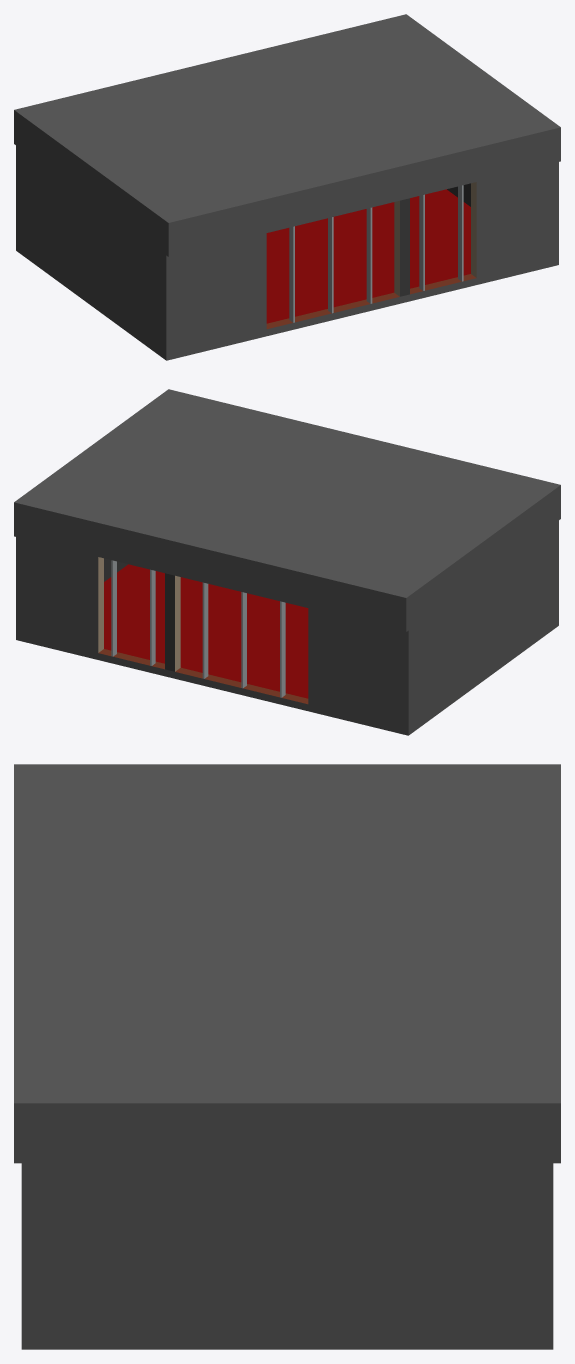
Rendered from Room_Large.fbx.
The picture shows the model from 3 angles, top to bottom: view 1: azimuth 30°, elevation 25°; view 2: azimuth 150°, elevation 25°; view 3: azimuth 270°, elevation 25°; orthographic projection. The views are drawn at different scales.
Visible parts, largest first — view 1: polySurface12; view 2: polySurface12; view 3: polySurface12.
Part boxes in pixels (<box>): polySurface12: <box>14,14,560,360</box>; polySurface12: <box>14,389,560,735</box>; polySurface12: <box>14,764,560,1349</box>.
Bounding box in the file's own units: 35.84 × 12.16 × 24.46.
